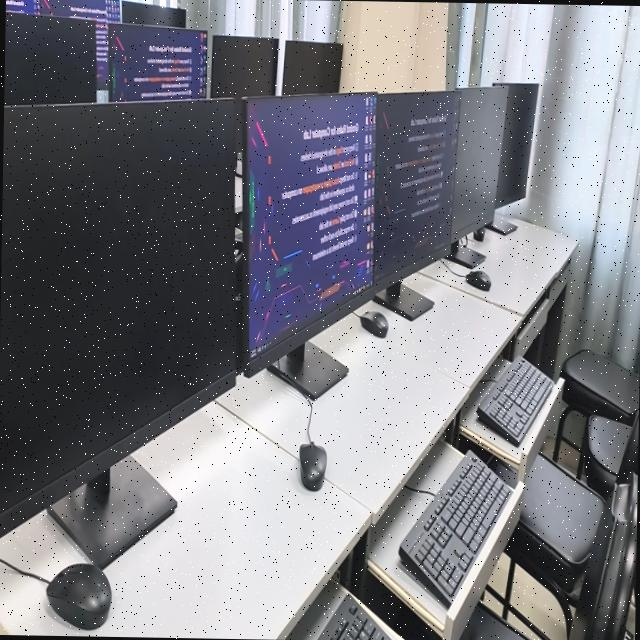Chair: (500, 451, 604, 633), (568, 474, 637, 640), (554, 349, 639, 461), (583, 416, 631, 499), (455, 598, 522, 640), (606, 413, 638, 500), (235, 210, 243, 373)
Keyboard: (399, 452, 513, 611), (476, 357, 554, 445), (317, 593, 392, 640)
Monitor: (0, 100, 237, 569), (241, 93, 376, 399), (374, 91, 459, 320), (446, 85, 508, 268), (4, 12, 96, 105), (485, 83, 538, 235), (211, 35, 278, 152), (109, 24, 206, 101), (40, 0, 120, 90), (282, 41, 343, 94), (122, 2, 186, 27), (5, 0, 40, 14)
Mouse: (46, 563, 111, 629), (299, 441, 327, 490), (360, 311, 388, 337), (465, 270, 490, 290), (473, 226, 485, 241)
